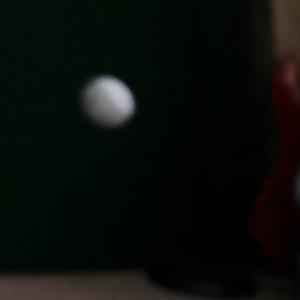ball: (77, 73, 138, 136)
